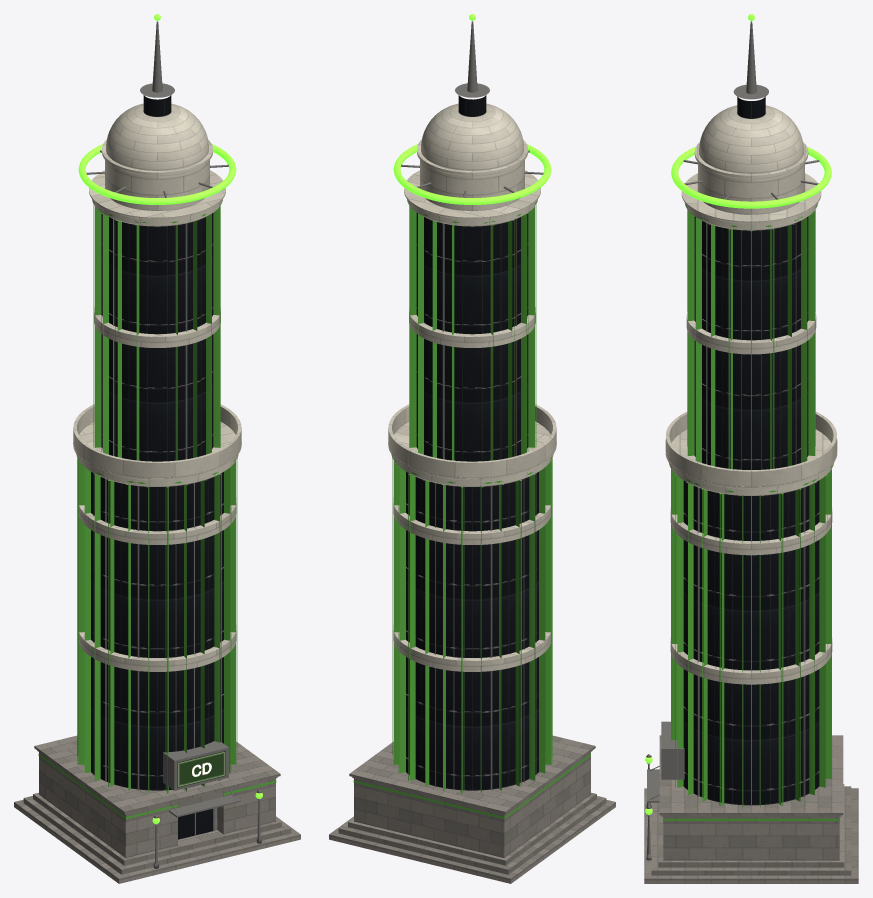
File: cancer-dao.glb
3 renders of one model, left to right at view 1: azimuth 30°, elevation 25°; view 2: azimuth 150°, elevation 25°; view 3: azimuth 270°, elevation 25°, orthographic.
Visible parts, largest first — view 1: Landmark · Cancer DAO; view 2: Landmark · Cancer DAO; view 3: Landmark · Cancer DAO.
Boxes of the visible parts, <box> form: Landmark · Cancer DAO: <box>14,14,300,883</box>; Landmark · Cancer DAO: <box>329,14,615,883</box>; Landmark · Cancer DAO: <box>644,14,858,883</box>.
Bounding box in the file's own units: 12 × 51 × 12.
Materials: 7 (4 with a texture image).
